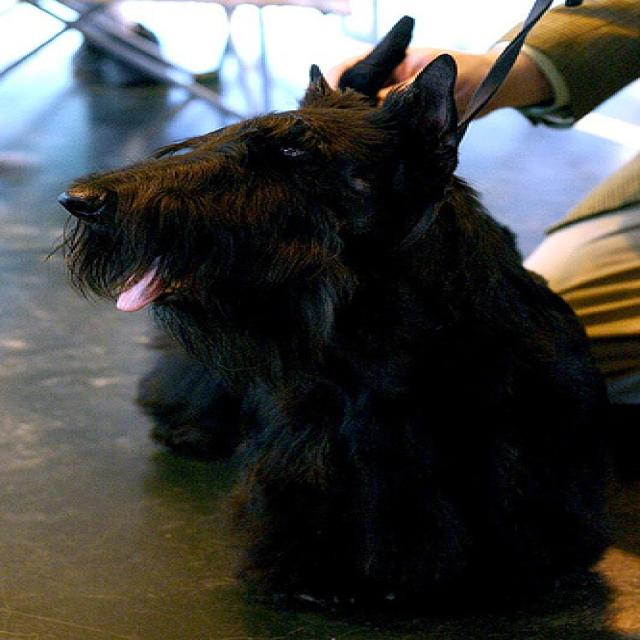dog-scottish_terrier: (48, 10, 619, 637)
